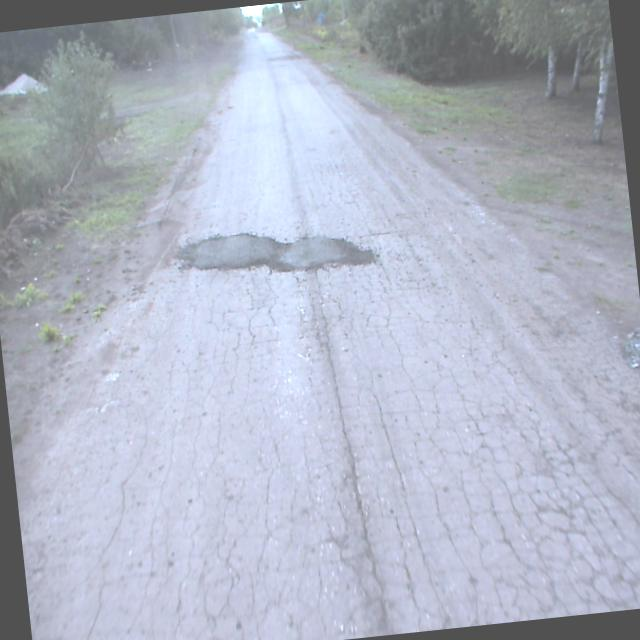road: (19, 27, 640, 640)
